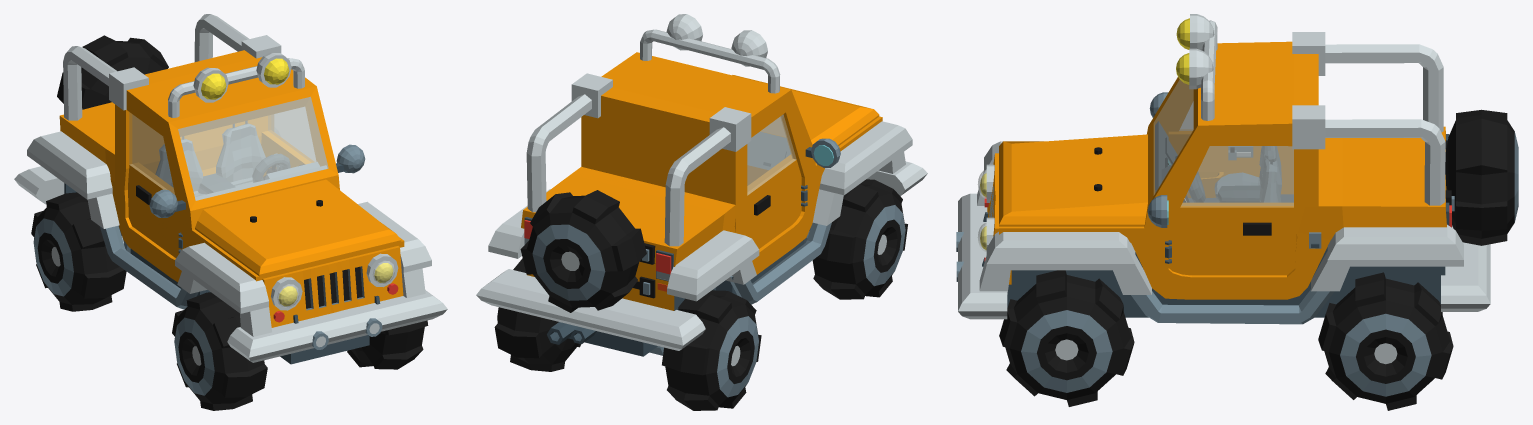
The model's file is buggy.glb.
The picture shows the model from 3 angles, left to right: view 1: azimuth 30°, elevation 25°; view 2: azimuth 150°, elevation 25°; view 3: azimuth 270°, elevation 25°; orthographic projection. The views are drawn at different scales.
Parts seen in each view (by area): view 1: group1085046267; view 2: group1085046267; view 3: group1085046267.
Boxes of the visible parts, x1,y1,x2,y2 form: group1085046267: [14, 14, 447, 410]; group1085046267: [476, 14, 927, 410]; group1085046267: [956, 14, 1518, 410].
Bounding box in the file's own units: 0.6868 × 0.8703 × 1.36.
